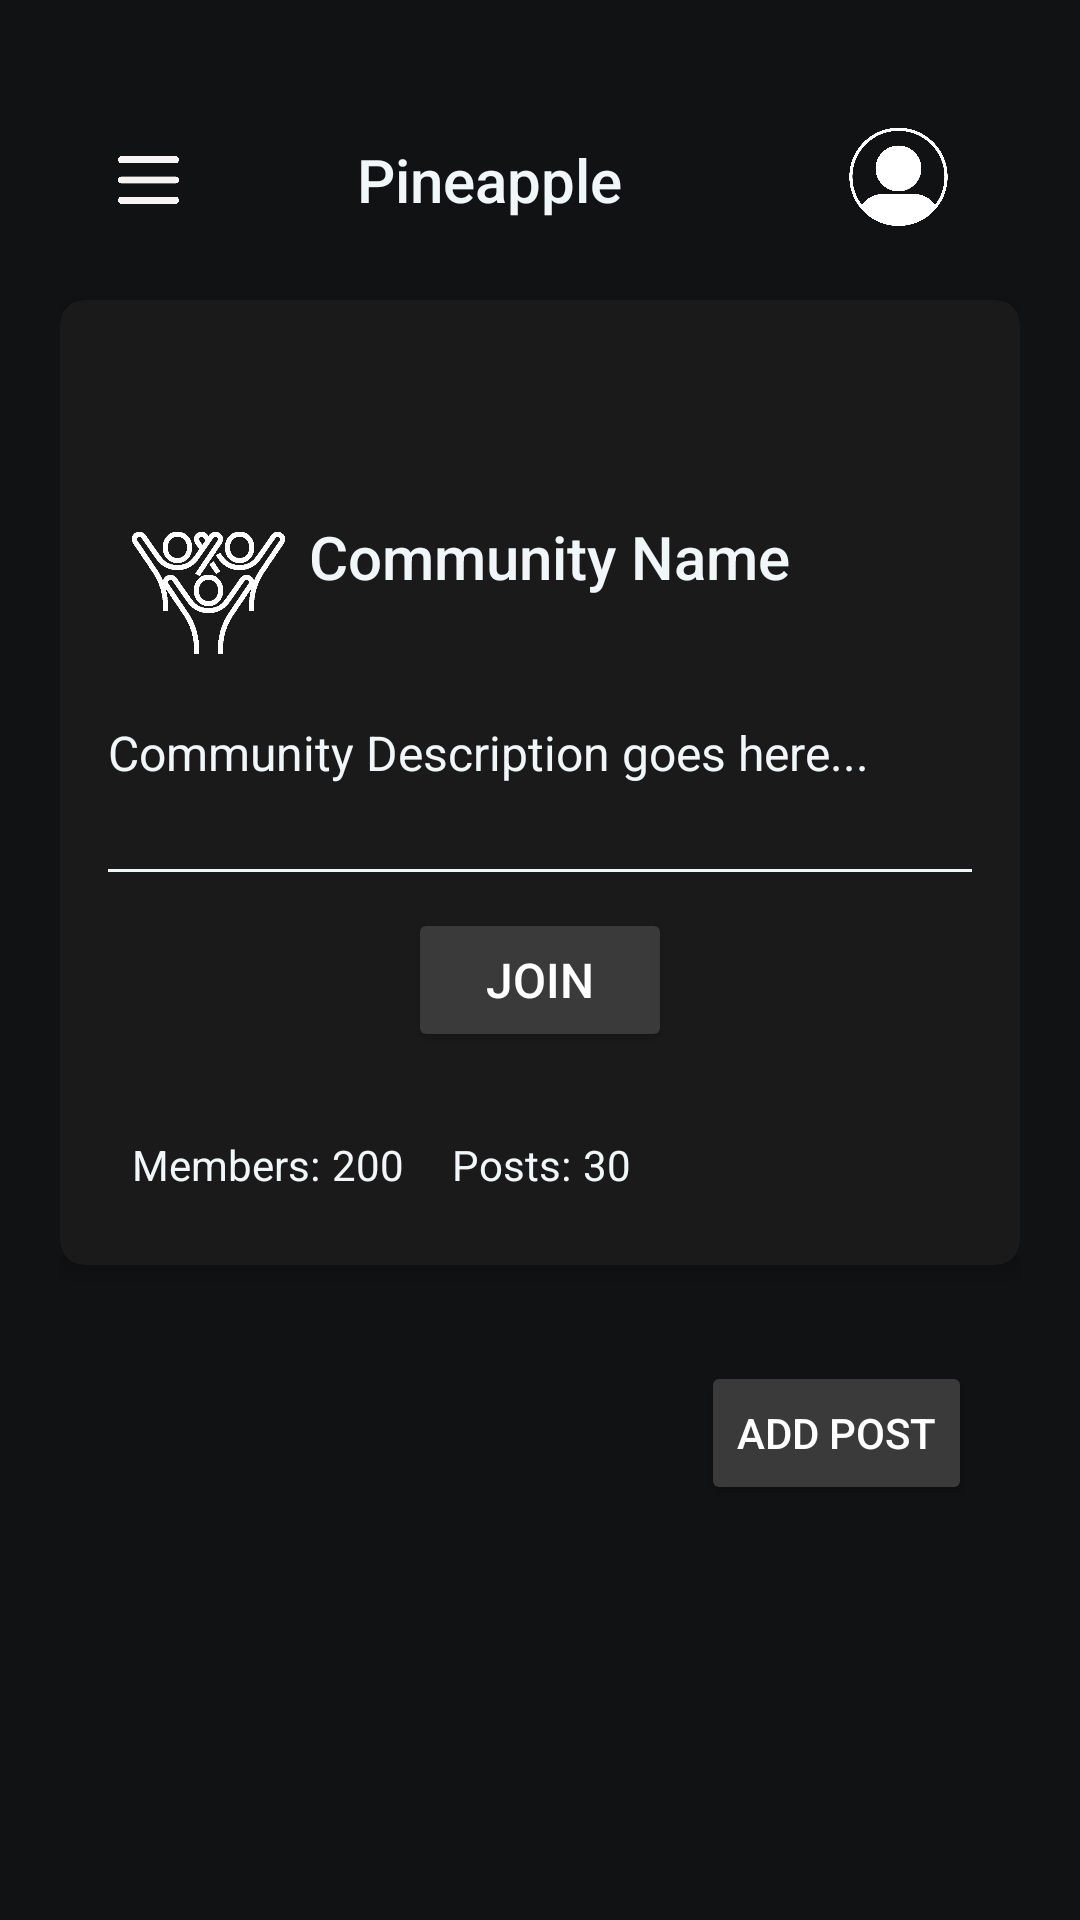

Icon click points for this 1080x1920 phone screenshot, format (x=x, y=y):
menu: (x=148, y=180)
Profile: (x=898, y=177)
